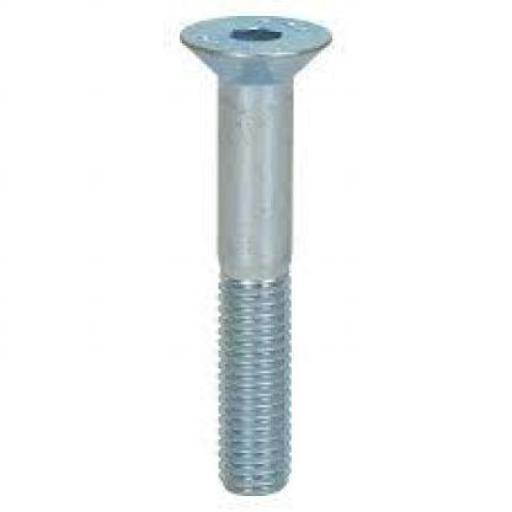Bolt: (179, 14, 333, 497)
